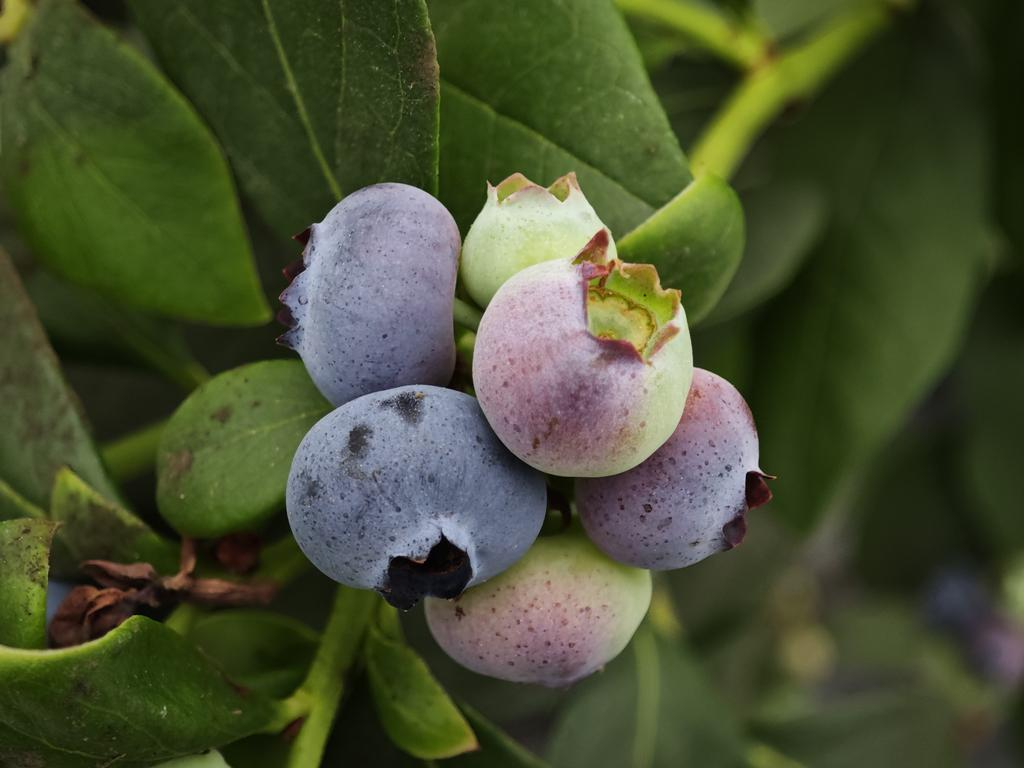RipeBlueBerry: (285, 383, 551, 600), (282, 177, 463, 401)
Semi-RipeBlueBerry: (470, 245, 698, 480), (575, 365, 769, 573)
